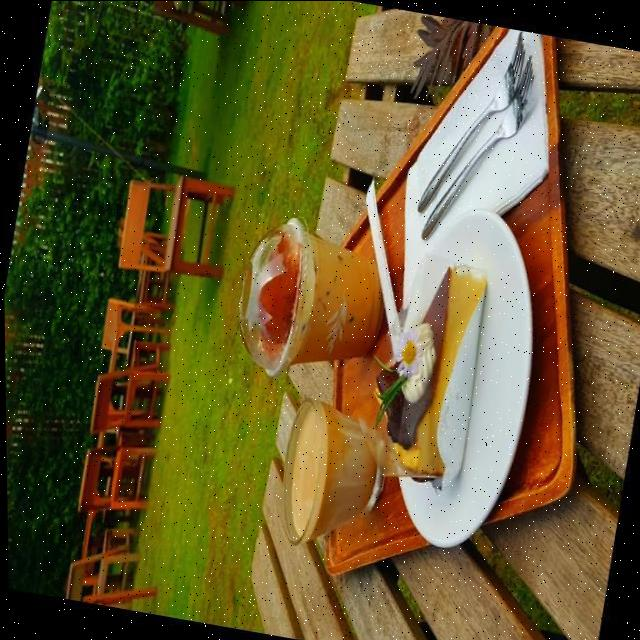cup: (219, 220, 405, 376)
